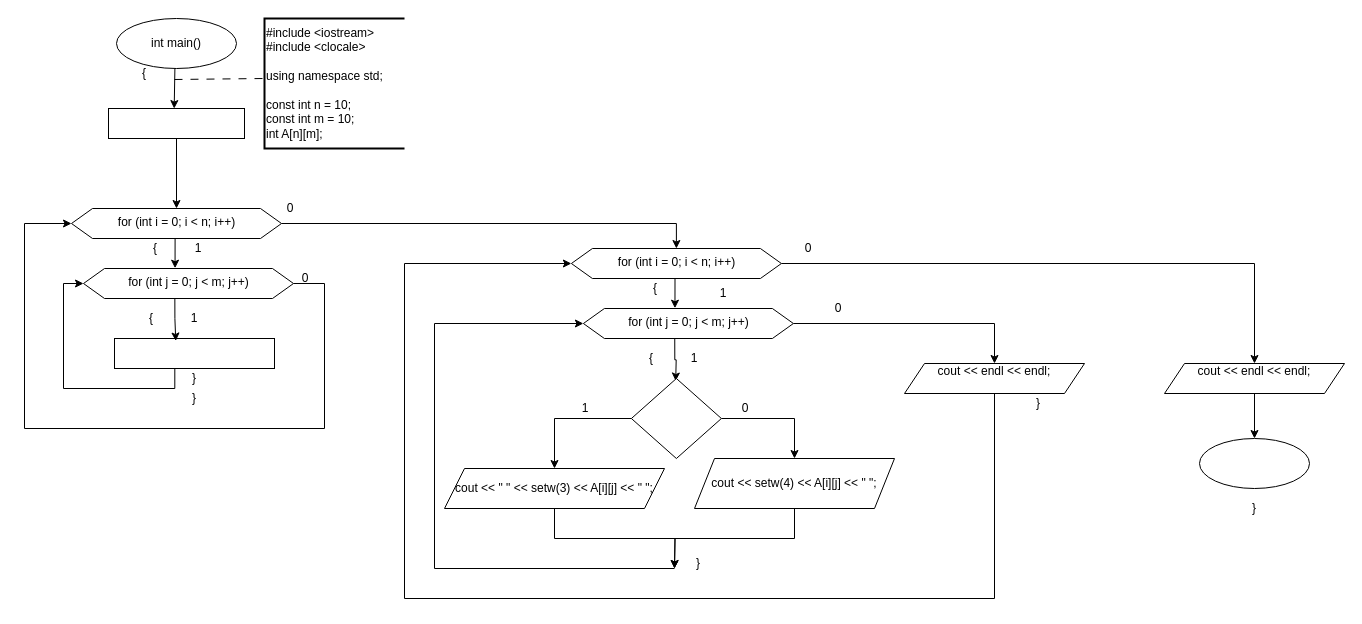
Some shapes in this 1362 by 624 pixel diagram are drawn without their labels. Here are the shapes that lost their labels. From the top down, the box of each, then its label:
(108, 108, 244, 138): setlocale(LC_ALL, "ru");
(114, 338, 274, 368): A[i][j] = rand() % 200 - 100;
(630, 378, 721, 458): if (A[i][j] >= 0)
(1198, 438, 1310, 488): return 0;
